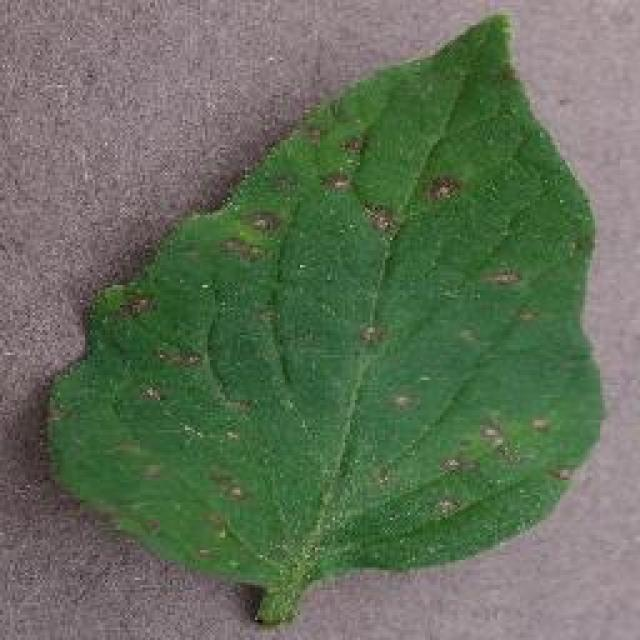Tomato___Septoria_leaf_spot: (50, 15, 598, 622)
